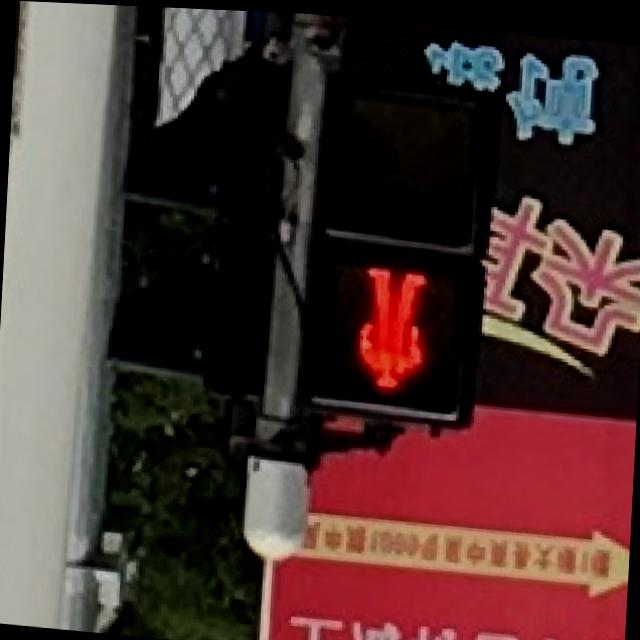red_light: (307, 255, 457, 415)
